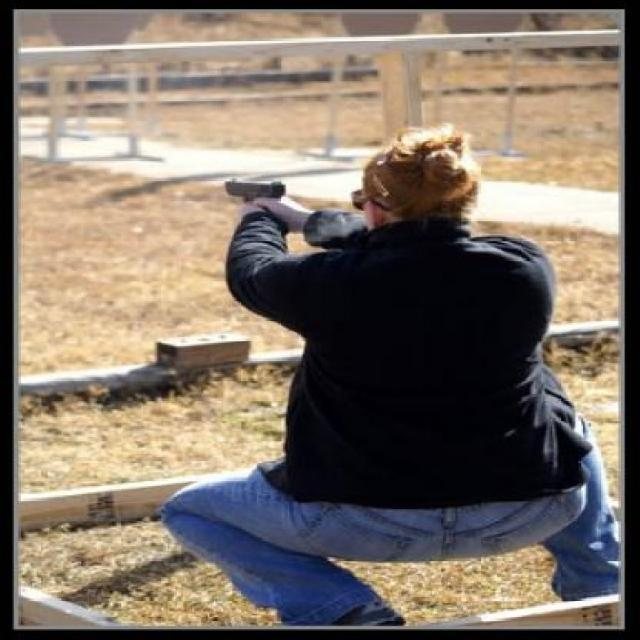Pistol: (220, 177, 294, 234)
